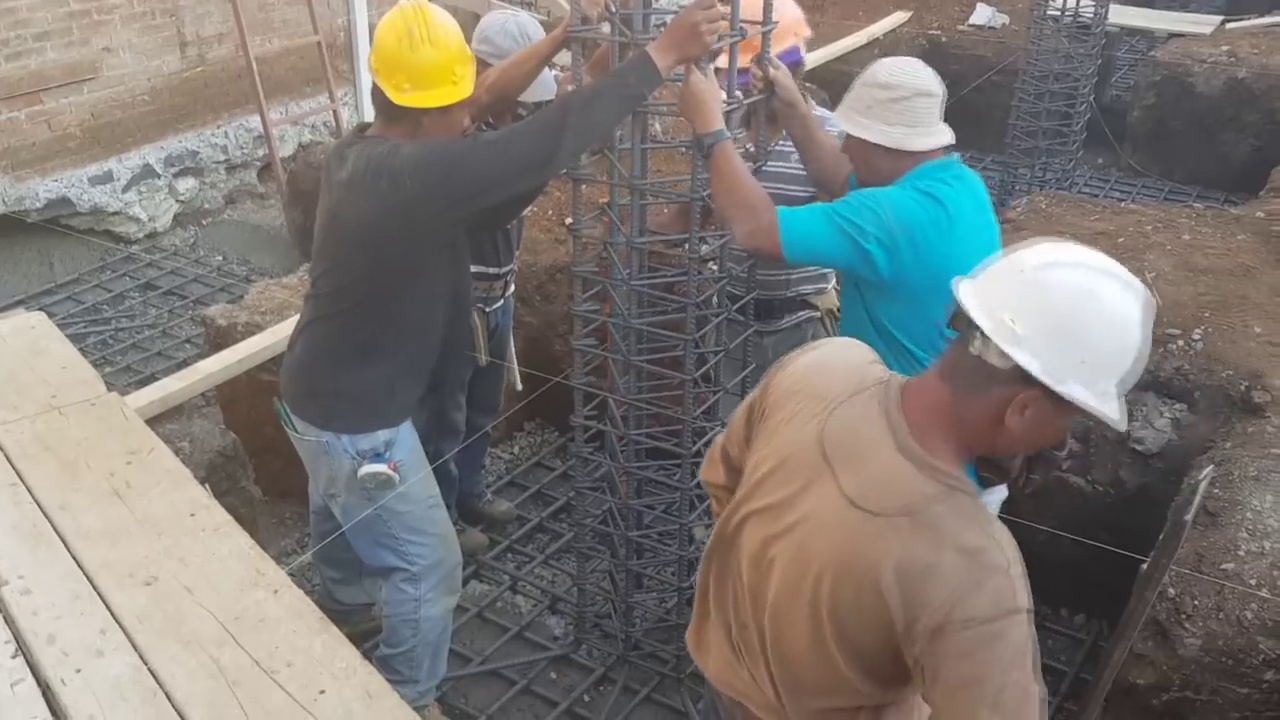helmet: (952, 243, 1160, 446), (363, 3, 480, 121), (688, 5, 813, 76)
helmet-off: (831, 55, 959, 192), (467, 4, 559, 126)
helmet-on: (890, 238, 1170, 483), (690, 3, 814, 158), (351, 15, 480, 153)
person: (271, 0, 634, 688), (684, 241, 1170, 717), (692, 48, 1002, 364), (685, 0, 843, 425)
